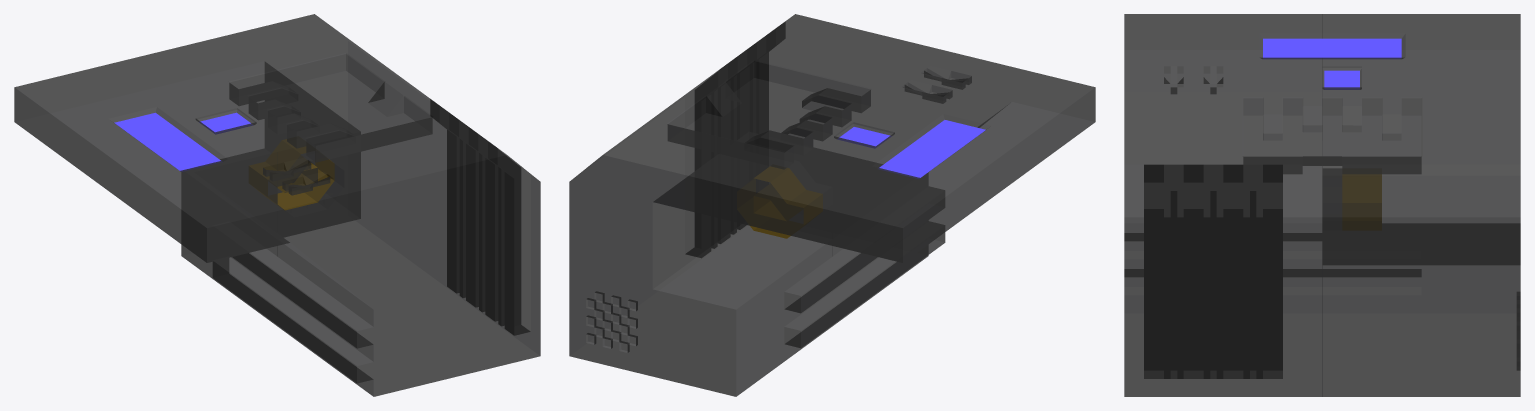
File: attachment010.gltf
3 views of the same model, side by side, from view 1: azimuth 30°, elevation 25°; view 2: azimuth 150°, elevation 25°; view 3: azimuth 270°, elevation 25° (orthographic). The views are drawn at different scales.
Visible parts, largest first — view 1: Attatchment010; view 2: Attatchment010; view 3: Attatchment010.
Boxes of the visible parts, x1,y1,x2,y2 form: Attatchment010: (14,14,540,396); Attatchment010: (569,14,1095,396); Attatchment010: (1124,14,1520,396).
Size of the model in its own units: 0.1 by 0.06 by 0.1.
